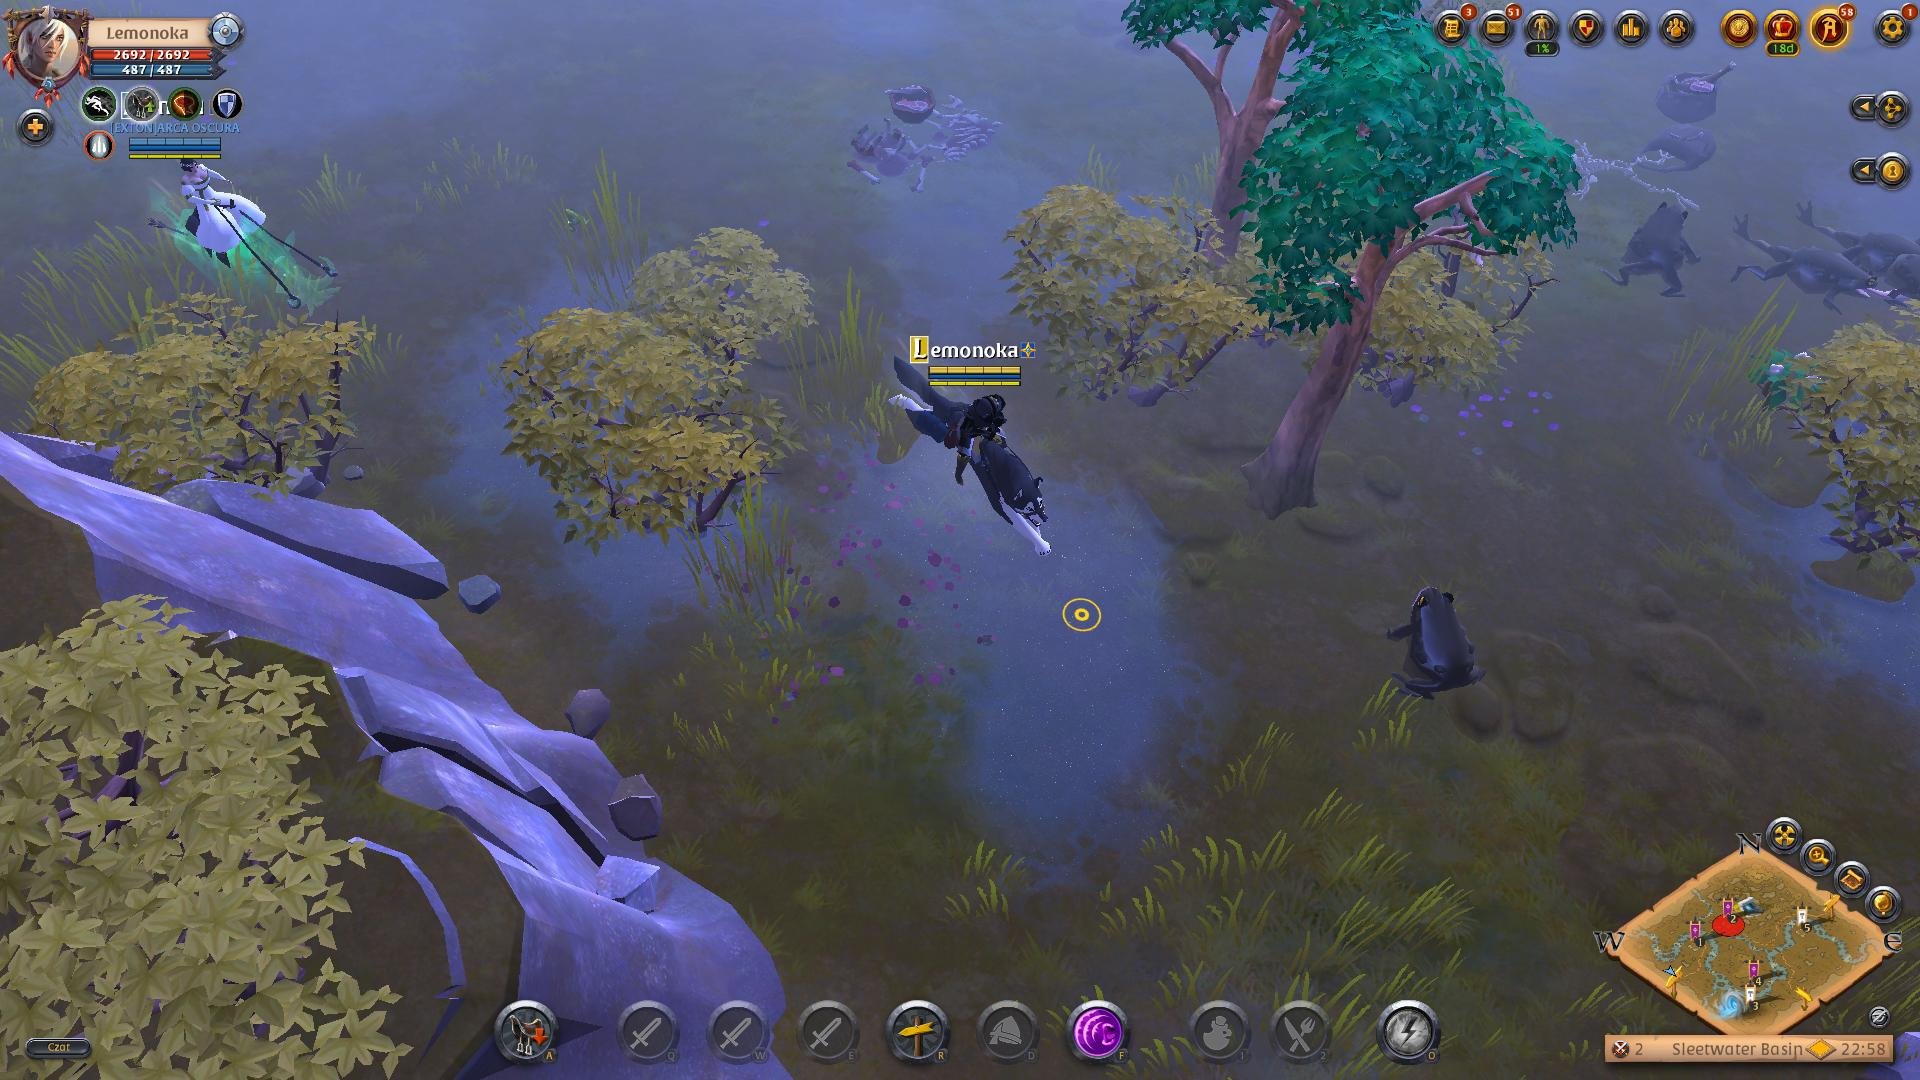wood tier 3: (1240, 58, 1581, 340)
